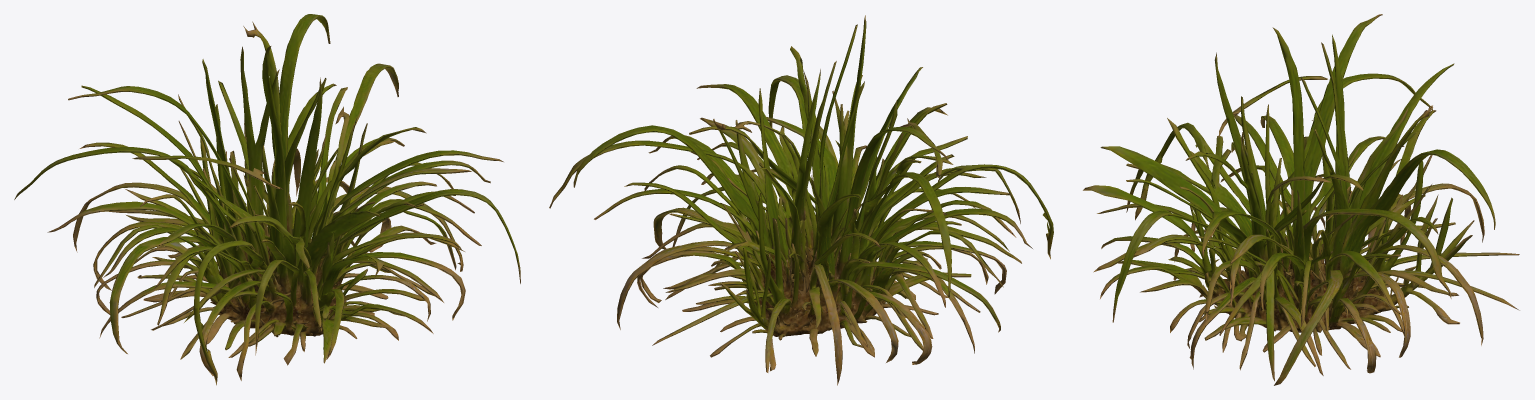
File: grass-v1.glb
3 renders of one model, left to right at view 1: azimuth 30°, elevation 25°; view 2: azimuth 150°, elevation 25°; view 3: azimuth 270°, elevation 25°, orthographic. The views are drawn at different scales.
Visible parts, largest first — view 1: tripo_node_98ccb87a-01f1-4133-9f04-2cae36253f59; view 2: tripo_node_98ccb87a-01f1-4133-9f04-2cae36253f59; view 3: tripo_node_98ccb87a-01f1-4133-9f04-2cae36253f59.
Boxes of the visible parts, left/top/right/bottom form: tripo_node_98ccb87a-01f1-4133-9f04-2cae36253f59: left=14, top=14, right=520, bottom=385; tripo_node_98ccb87a-01f1-4133-9f04-2cae36253f59: left=549, top=15, right=1053, bottom=385; tripo_node_98ccb87a-01f1-4133-9f04-2cae36253f59: left=1083, top=14, right=1519, bottom=385.
Bounding box in the file's own units: 1 × 0.6846 × 0.9832.
1 material, 1 textured.
